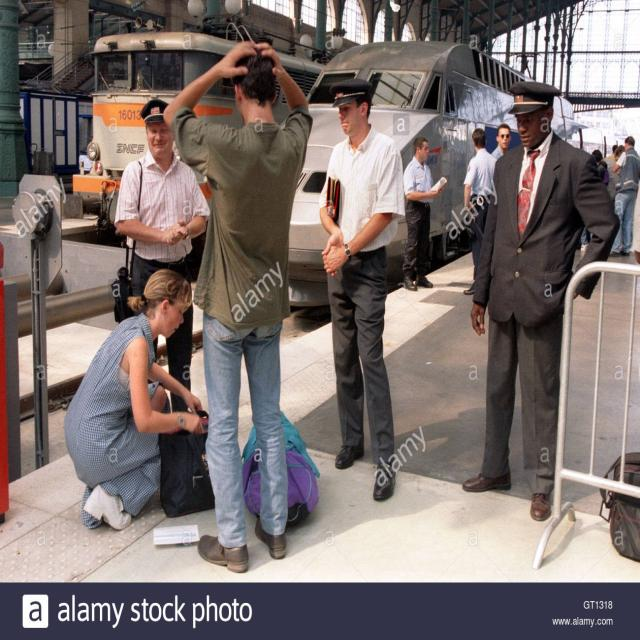body: (160, 36, 316, 574), (458, 78, 624, 524), (61, 266, 212, 533), (316, 76, 407, 503), (113, 98, 211, 414), (402, 134, 449, 293), (462, 126, 498, 296), (576, 132, 624, 252), (610, 135, 640, 258), (491, 123, 512, 161)
